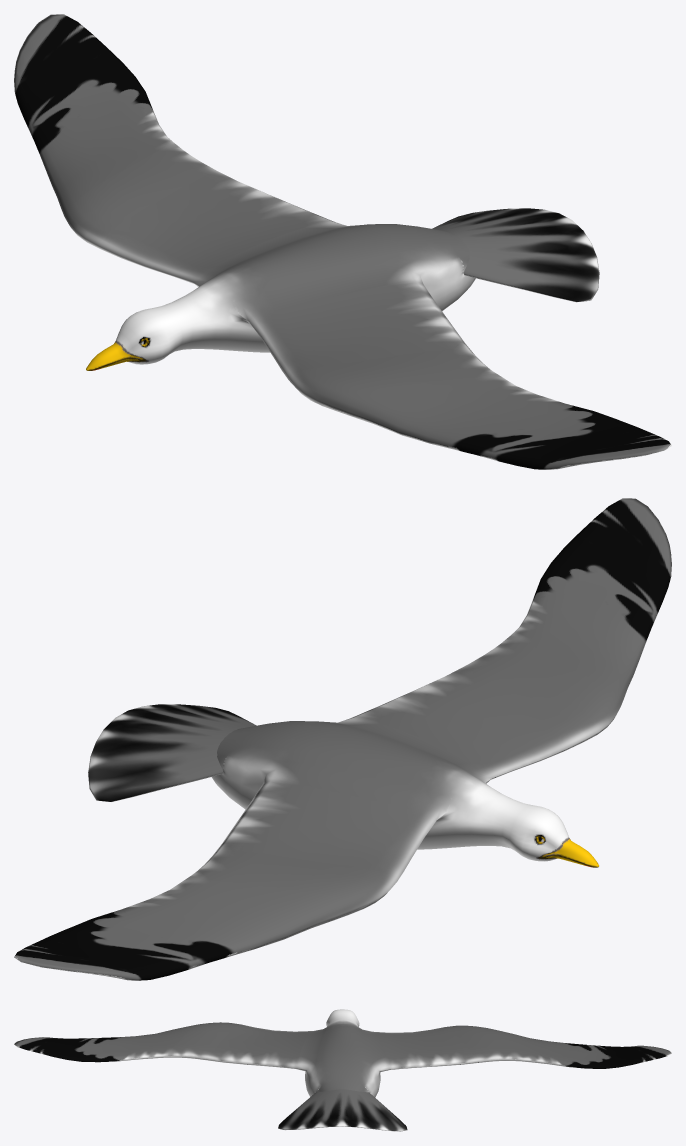
File: seagull.obj
3 renders of one model, top to bottom at view 1: azimuth 30°, elevation 25°; view 2: azimuth 150°, elevation 25°; view 3: azimuth 270°, elevation 25°, orthographic. The views are drawn at different scales.
Visible parts, largest first — view 1: Object_7; view 2: Object_7; view 3: Object_7.
Boxes of the visible parts, left/top/right/bottom form: Object_7: left=14, top=14, right=671, bottom=469; Object_7: left=14, top=498, right=671, bottom=980; Object_7: left=14, top=1009, right=671, bottom=1131.
Bounding box in the file's own units: 0.917 × 0.1948 × 2.01.
1 material, 1 textured.
